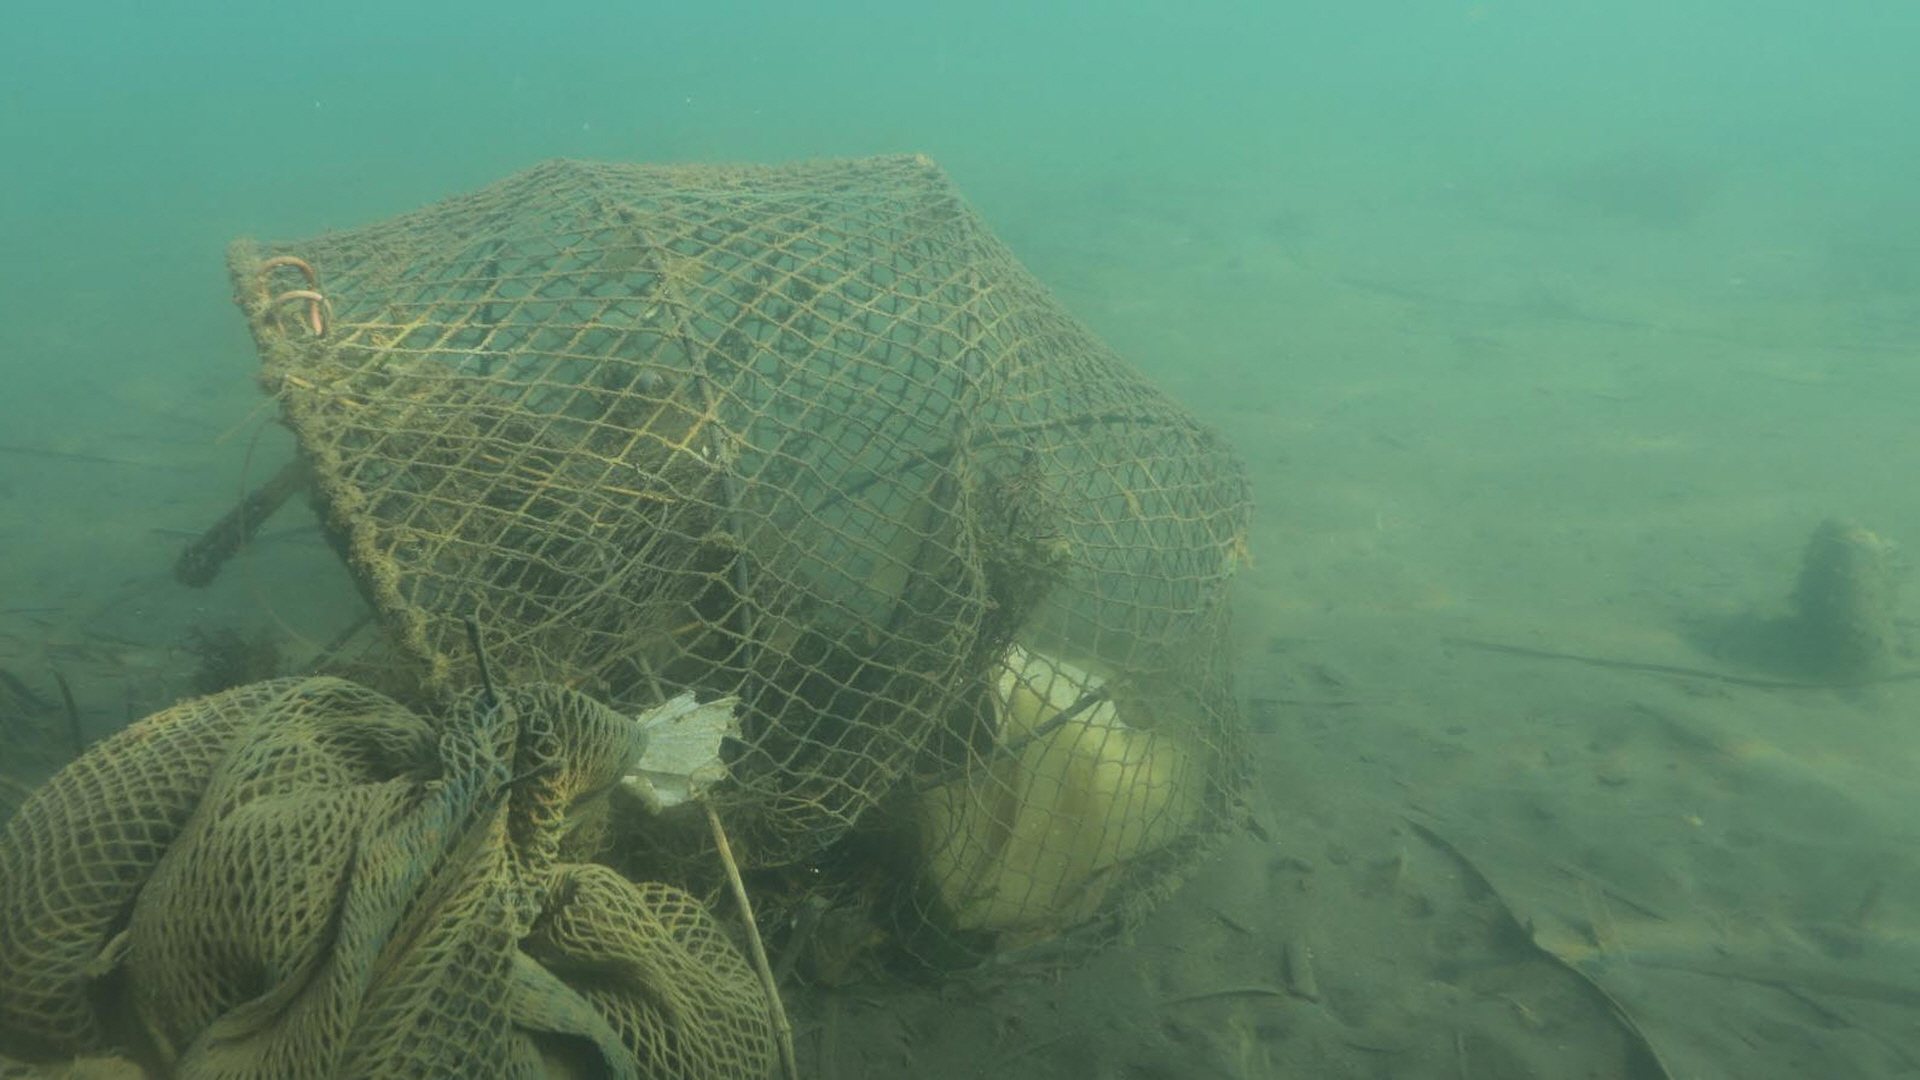fish net: (0, 675, 781, 1080)
spring fish trap: (222, 140, 1258, 1000)
